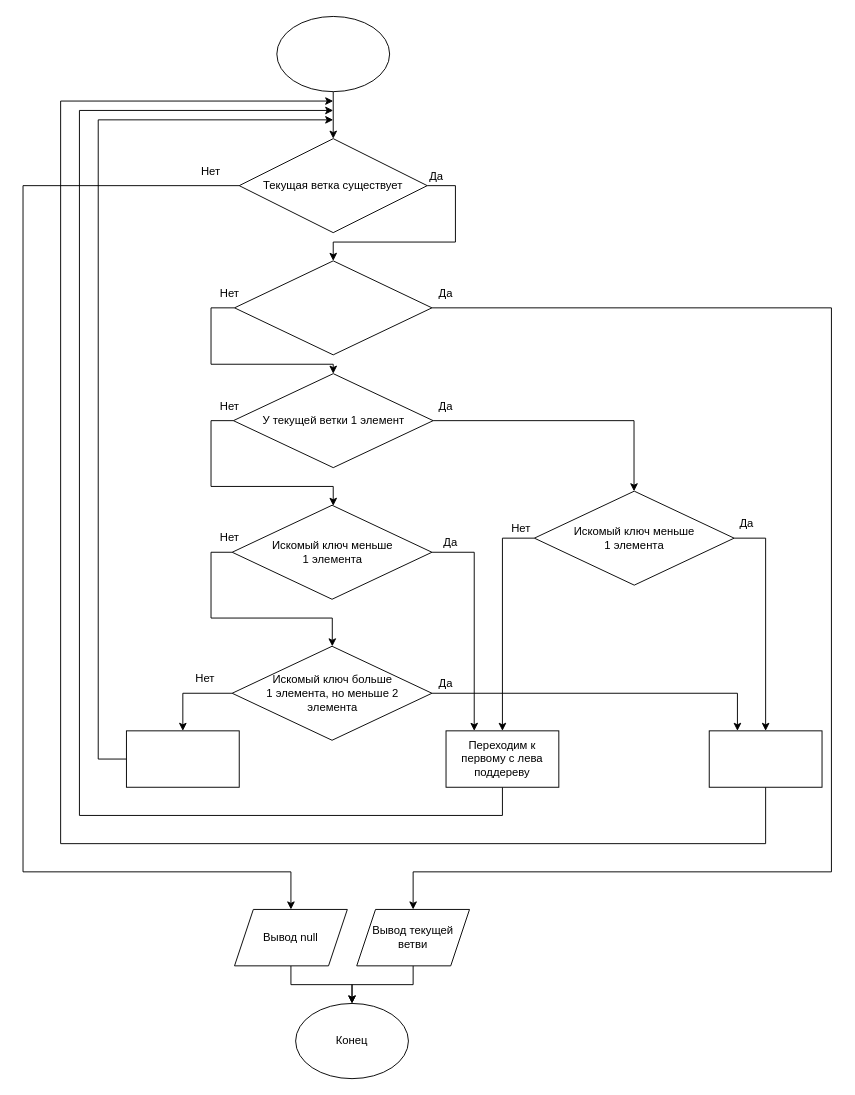
The diagram is 855 pixels wide and 1095 high, and some of its shapes have lost their labels. The shapes that lost their labels are listed below. From the top down, each one's centre as x and y in pixels, then its label:
the point at 333,54: Начало
the point at 333,307: У текущей ветки ключ левого или правого элемент равен искомому
the point at 182,758: Переходим к третьему с лева поддереву
the point at 765,758: Переходим ко второму слева поддереву
